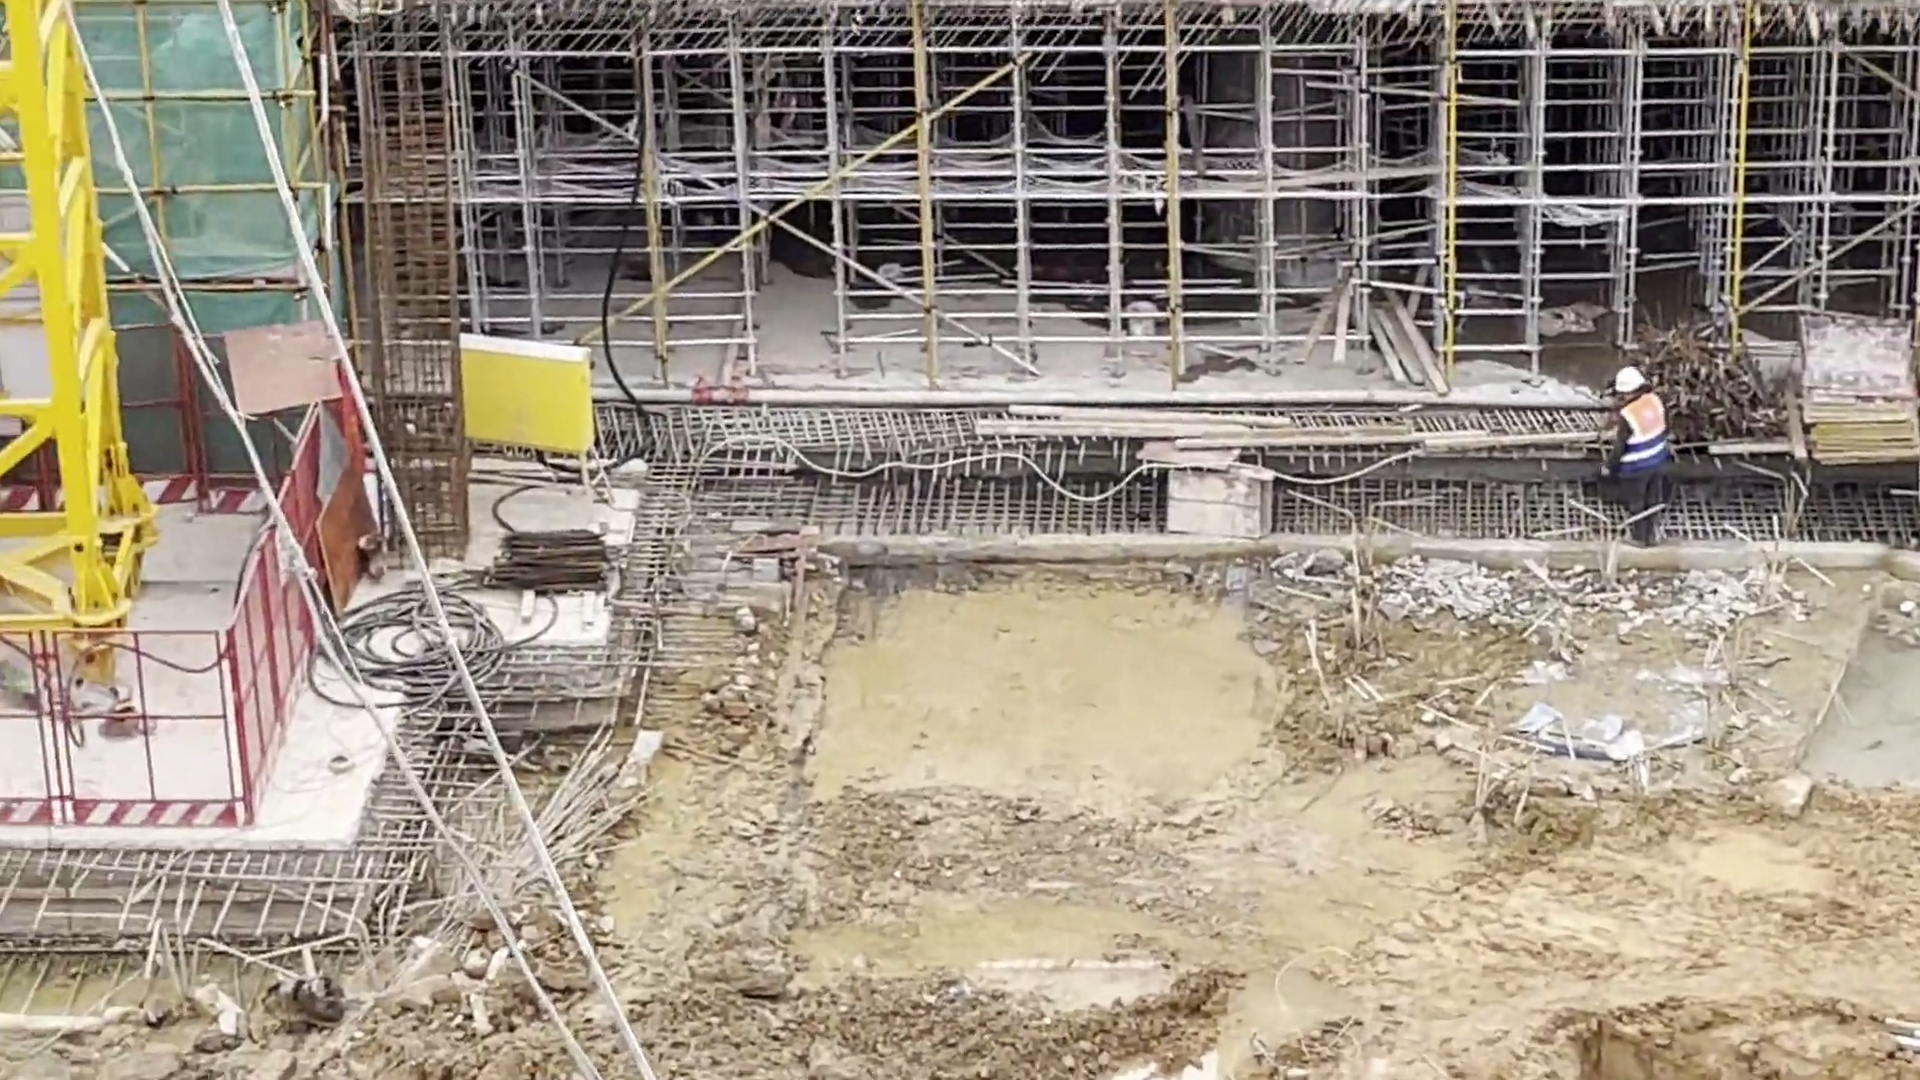board: (1782, 305, 1920, 464)
helmet: (1613, 367, 1651, 395)
person: (1599, 361, 1672, 548)
vest: (1614, 399, 1676, 485)
